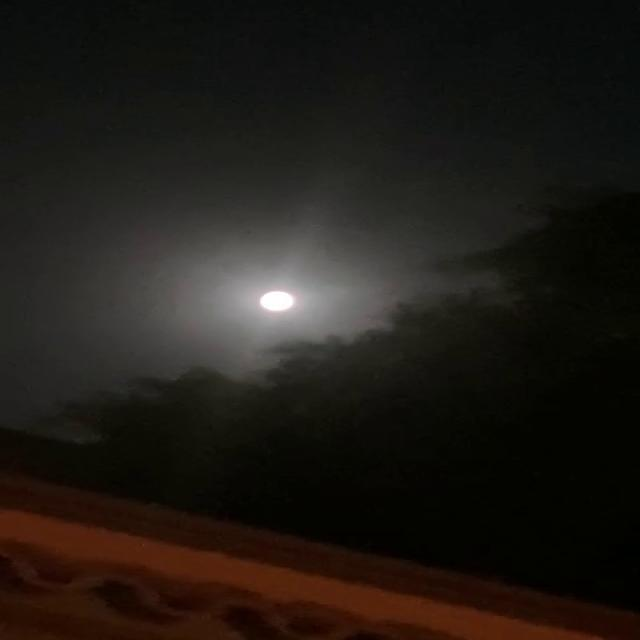moon: (268, 296, 316, 322)
